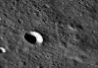crater: (11, 16, 71, 61)
